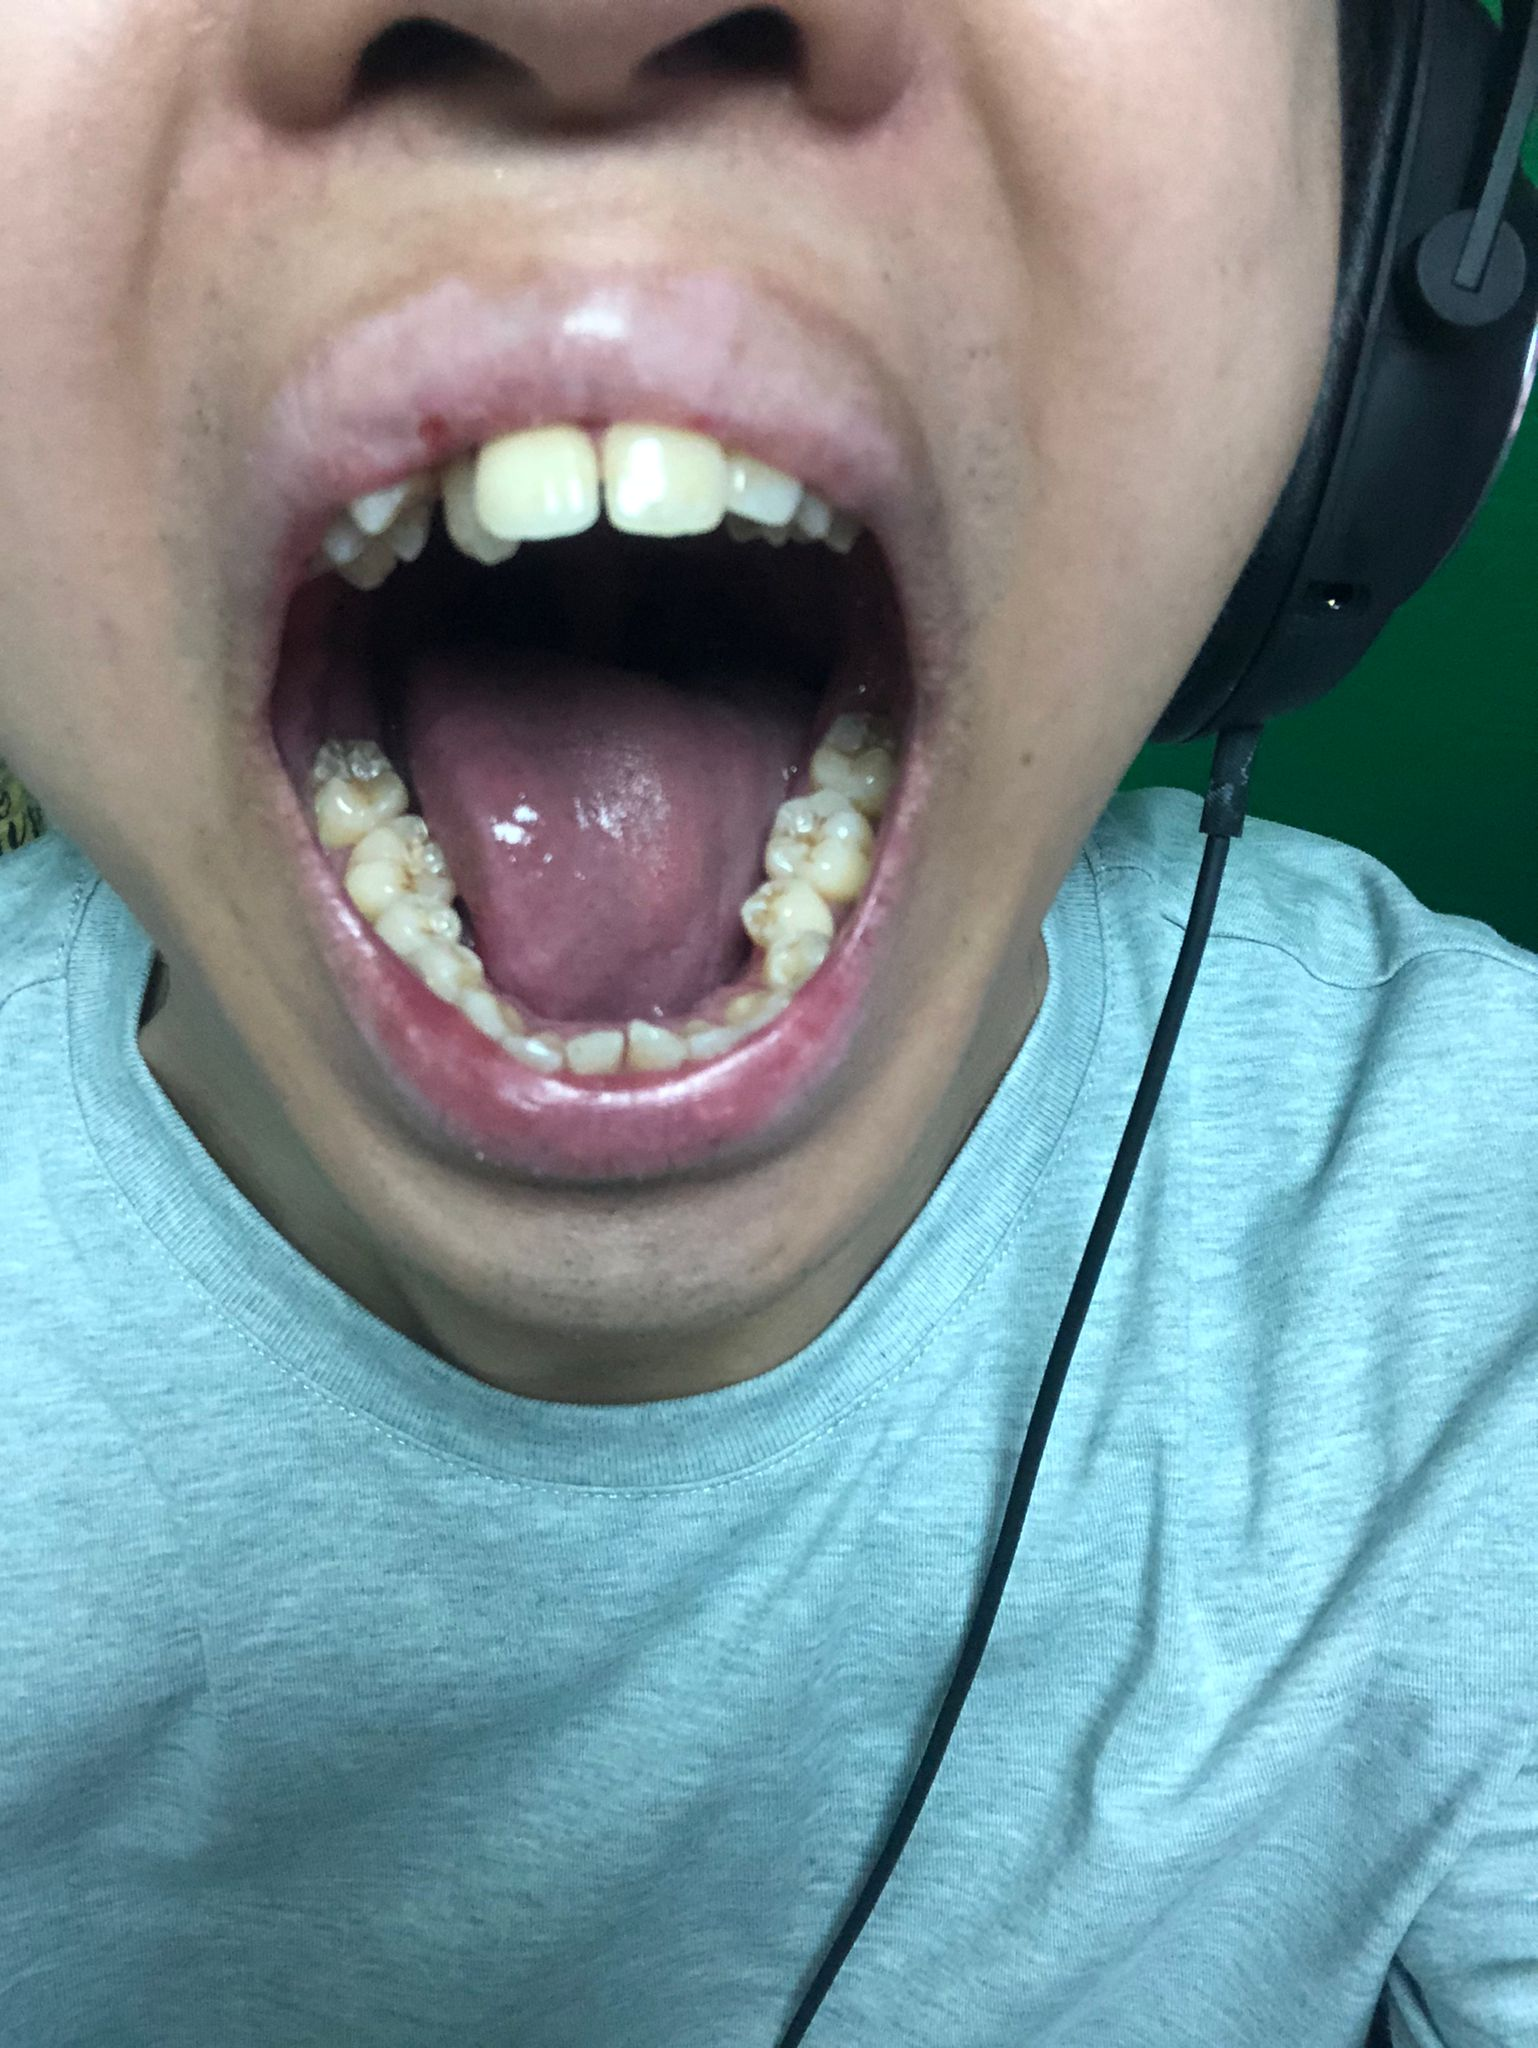teeth: (764, 788, 871, 896), (477, 434, 590, 533), (309, 737, 410, 845), (349, 817, 449, 913), (806, 709, 897, 799), (617, 439, 712, 518), (436, 454, 502, 560), (738, 882, 835, 937), (318, 517, 391, 588), (730, 499, 827, 543), (378, 900, 459, 946), (363, 493, 420, 557), (414, 940, 477, 992), (737, 460, 792, 515), (767, 935, 824, 980), (630, 1026, 683, 1071), (457, 995, 509, 1035), (577, 1034, 617, 1072), (504, 1043, 557, 1071), (735, 993, 779, 1021), (695, 1026, 737, 1050)
